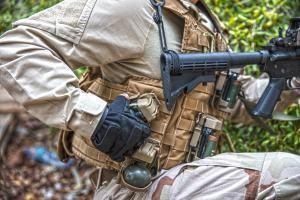Grenade: (196, 114, 223, 162), (221, 74, 243, 114), (122, 158, 151, 187)
Gun: (159, 17, 298, 118)
